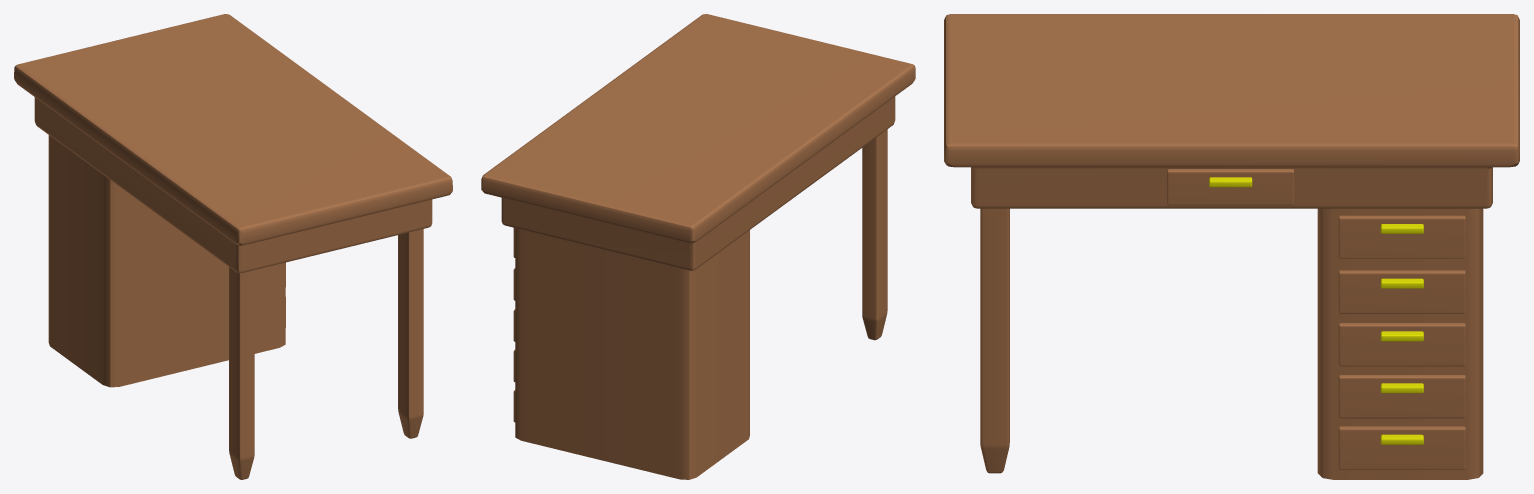
File: SM_Bureau.fbx
The picture shows the model from 3 angles, left to right: view 1: azimuth 30°, elevation 25°; view 2: azimuth 150°, elevation 25°; view 3: azimuth 270°, elevation 25°; orthographic projection. The views are drawn at different scales.
Visible parts, largest first — view 1: bureau; view 2: bureau; view 3: bureau.
Part boxes in pixels (bbox=[...]): bureau: bbox=[14, 14, 452, 479]; bureau: bbox=[481, 14, 915, 479]; bureau: bbox=[944, 14, 1519, 479].
Size of the model in its own units: 64.21 by 76.44 by 116.
